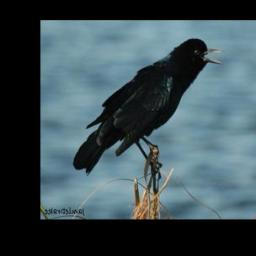Crow: (73, 38, 224, 180)
